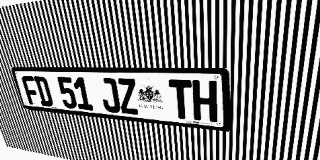1: (71, 77, 93, 111)
5: (57, 77, 78, 109)
D: (33, 76, 54, 107)
F: (21, 76, 41, 106)
H: (192, 80, 217, 122)
J: (98, 78, 121, 113)
T: (168, 79, 193, 120)
Z: (116, 78, 139, 115)
